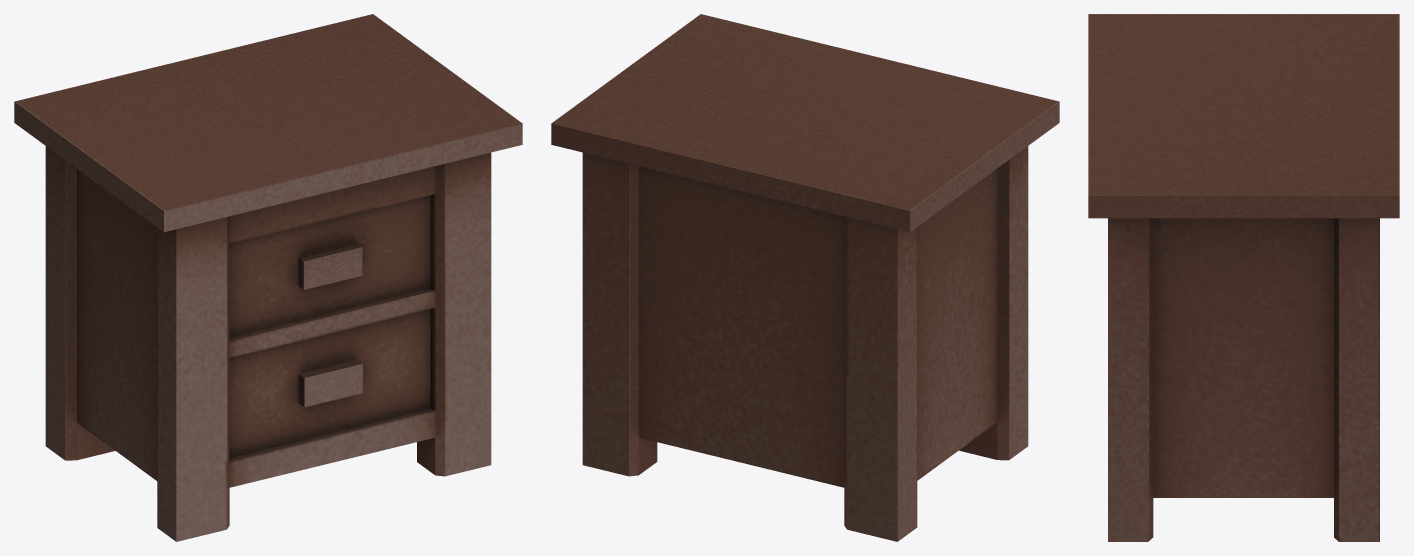
The model's file is BedsideDrawers.fbx.
3 views of the same model, side by side, from view 1: azimuth 30°, elevation 25°; view 2: azimuth 150°, elevation 25°; view 3: azimuth 270°, elevation 25° (orthographic). The views are drawn at different scales.
Parts seen in each view (by area): view 1: Bedside_Drawers; view 2: Bedside_Drawers; view 3: Bedside_Drawers.
Boxes of the visible parts, bbox=[...] form: Bedside_Drawers: bbox=[14, 14, 522, 541]; Bedside_Drawers: bbox=[551, 14, 1059, 541]; Bedside_Drawers: bbox=[1088, 14, 1399, 541].
Bounding box in the file's own units: 0.016 × 0.0147 × 0.0116.
